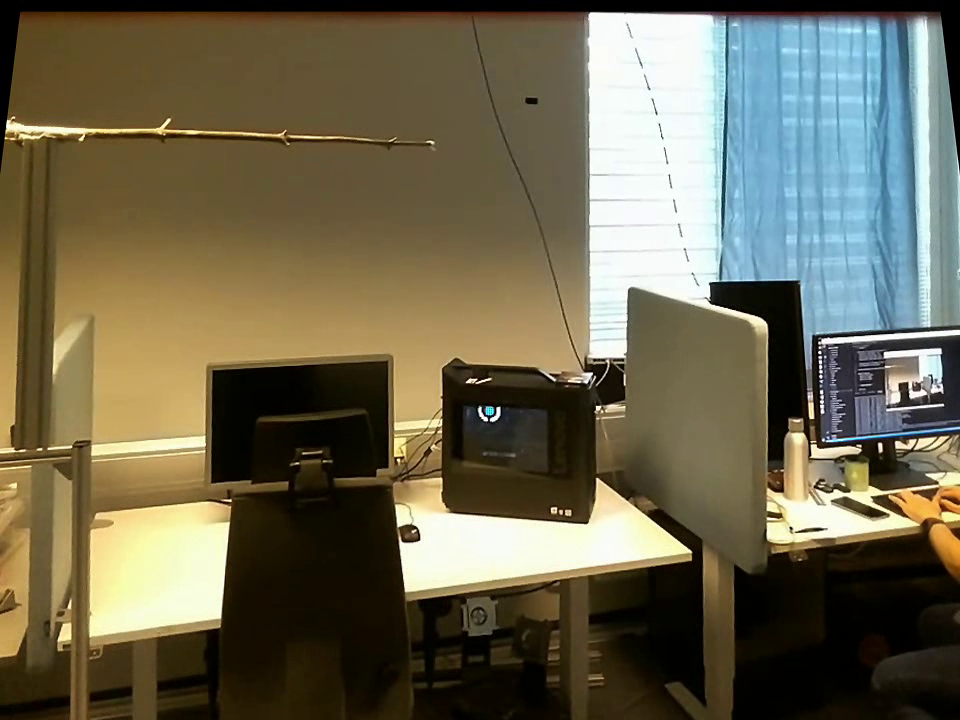aluminum_frame: (6, 137, 66, 456), (68, 441, 90, 717), (1, 436, 74, 467)
branch: (94, 109, 421, 158)
